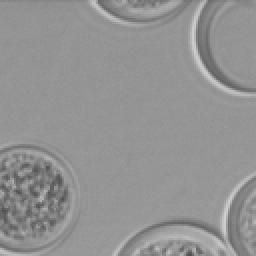picoshell: (0, 144, 76, 254), (190, 0, 254, 96), (112, 222, 236, 254), (88, 0, 188, 24), (228, 176, 254, 254)
